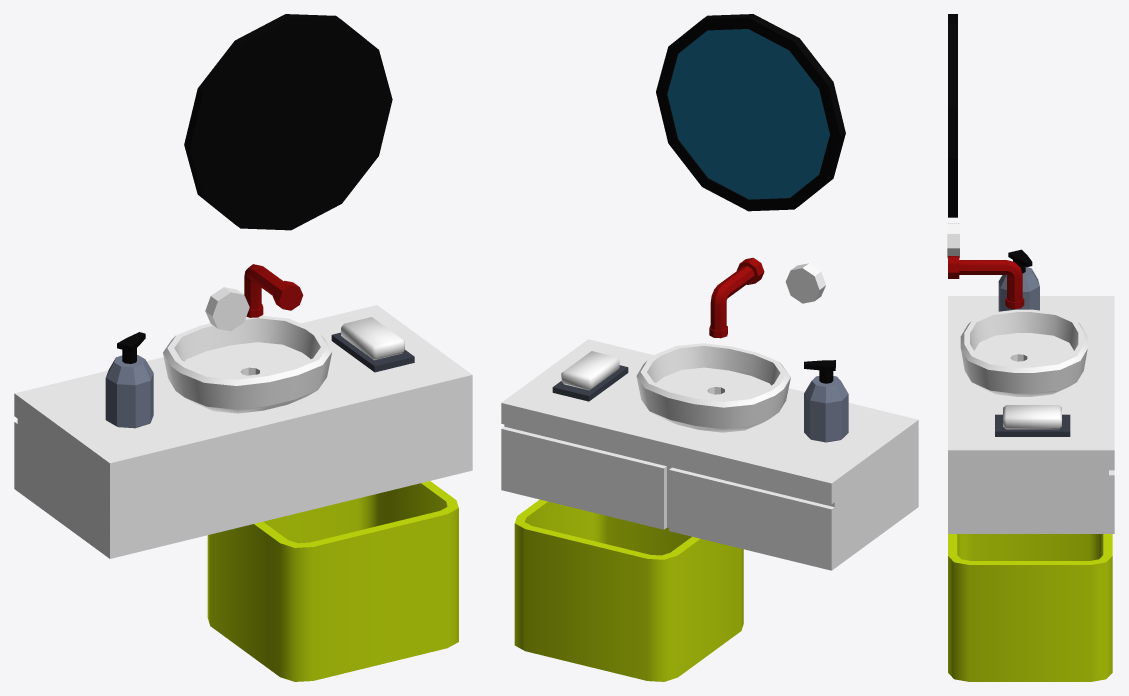
The model's file is sink.glb.
3 views of the same model, side by side, from view 1: azimuth 30°, elevation 25°; view 2: azimuth 150°, elevation 25°; view 3: azimuth 270°, elevation 25° (orthographic). The views are drawn at different scales.
Parts seen in each view (by area): view 1: 29, 30, 32, 33, 34, 43, 38, 36, 37; view 2: 29, 30, 31, 33, 32, 34, 43, 38, 36, 37; view 3: 29, 30, 33, 32, 43, 38, 34, 37, 36, 35.
Boxes of the visible parts, bbox=[...] form: 29: bbox=[14, 305, 472, 558]; 30: bbox=[207, 481, 458, 681]; 32: bbox=[184, 14, 392, 230]; 33: bbox=[163, 315, 332, 413]; 34: bbox=[105, 355, 153, 428]; 43: bbox=[244, 264, 303, 317]; 38: bbox=[341, 317, 404, 360]; 36: bbox=[205, 287, 249, 331]; 37: bbox=[331, 332, 414, 372]; 29: bbox=[501, 339, 918, 570]; 30: bbox=[514, 499, 743, 681]; 31: bbox=[667, 29, 829, 199]; 33: bbox=[636, 343, 790, 432]; 32: bbox=[656, 14, 845, 211]; 34: bbox=[804, 376, 848, 442]; 43: bbox=[709, 257, 764, 338]; 38: bbox=[561, 351, 619, 390]; 36: bbox=[785, 263, 825, 303]; 37: bbox=[552, 365, 628, 401]; 29: bbox=[948, 296, 1114, 533]; 30: bbox=[948, 534, 1112, 681]; 33: bbox=[960, 309, 1087, 396]; 32: bbox=[948, 14, 957, 217]; 43: bbox=[948, 256, 1024, 309]; 38: bbox=[1003, 405, 1061, 429]; 34: bbox=[998, 267, 1039, 311]; 37: bbox=[995, 414, 1070, 436]; 36: bbox=[947, 223, 959, 258]; 35: bbox=[1008, 249, 1032, 273].
Bounding box in the file's own units: 4.12 × 7.26 × 1.89.
